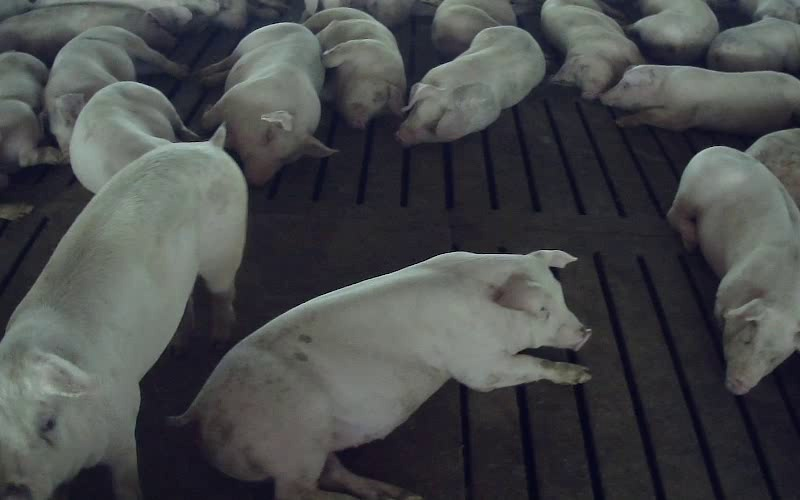pig: (176, 250, 589, 499), (668, 146, 799, 394), (198, 23, 336, 185), (45, 26, 185, 155), (396, 26, 544, 145), (69, 82, 198, 192), (600, 65, 799, 134), (304, 7, 405, 127), (541, 0, 643, 99), (631, 0, 718, 63), (706, 18, 799, 72), (432, 0, 516, 57)
